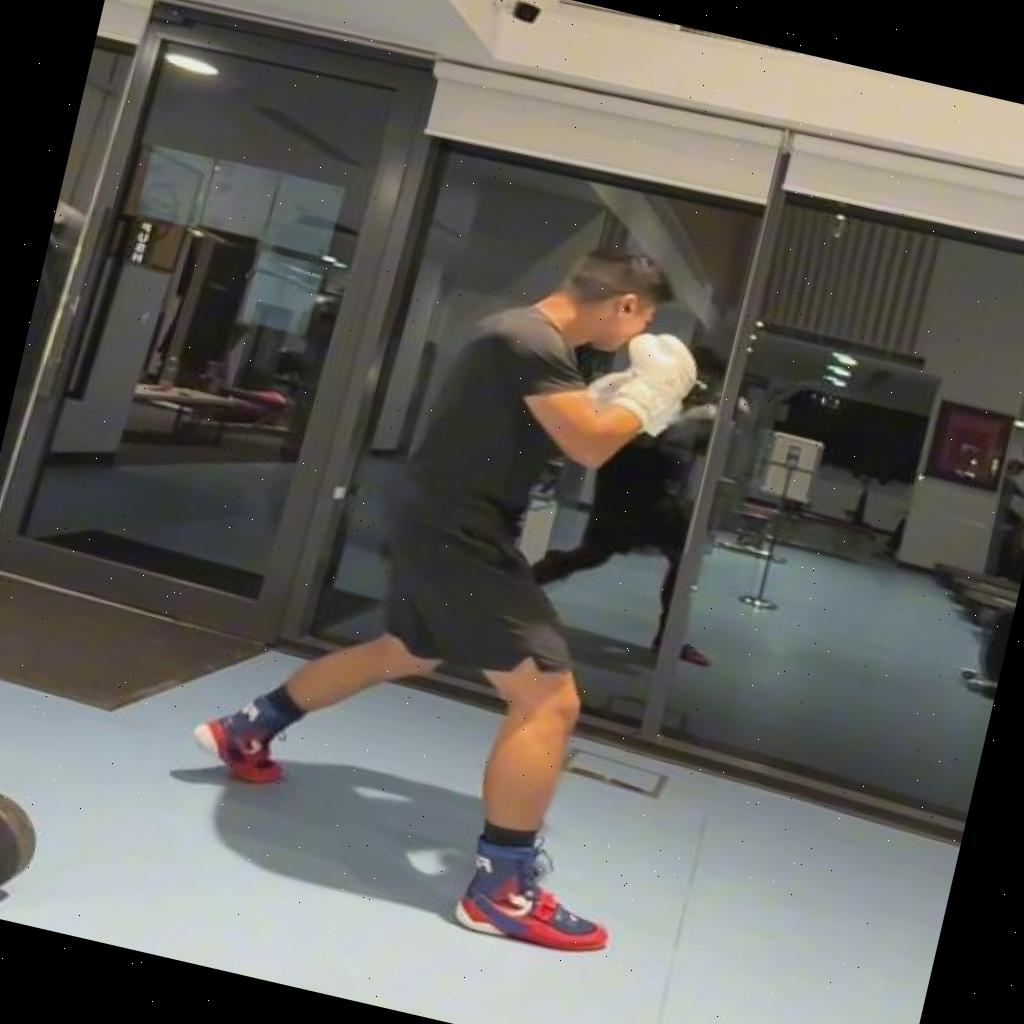no punch: (164, 174, 769, 967)
